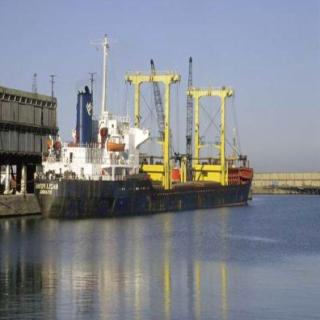Bulk Carrier: (30, 54, 258, 216)
